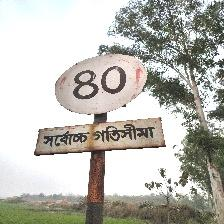Speed-limit: (39, 52, 161, 155)
